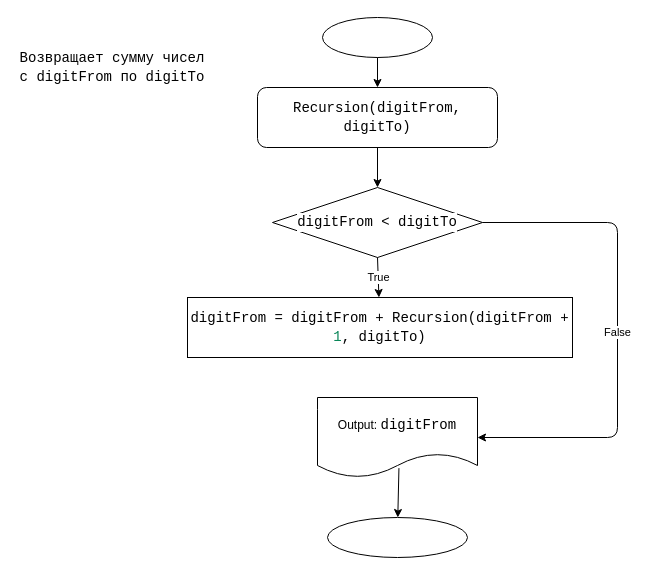
Image size: 648x575. Some labels were removed from this diagram. Here are the shapes that lost their labels. From the top down, the centre of each, then its label:
At point 377,37: "Start".
At point 397,537: "End".
